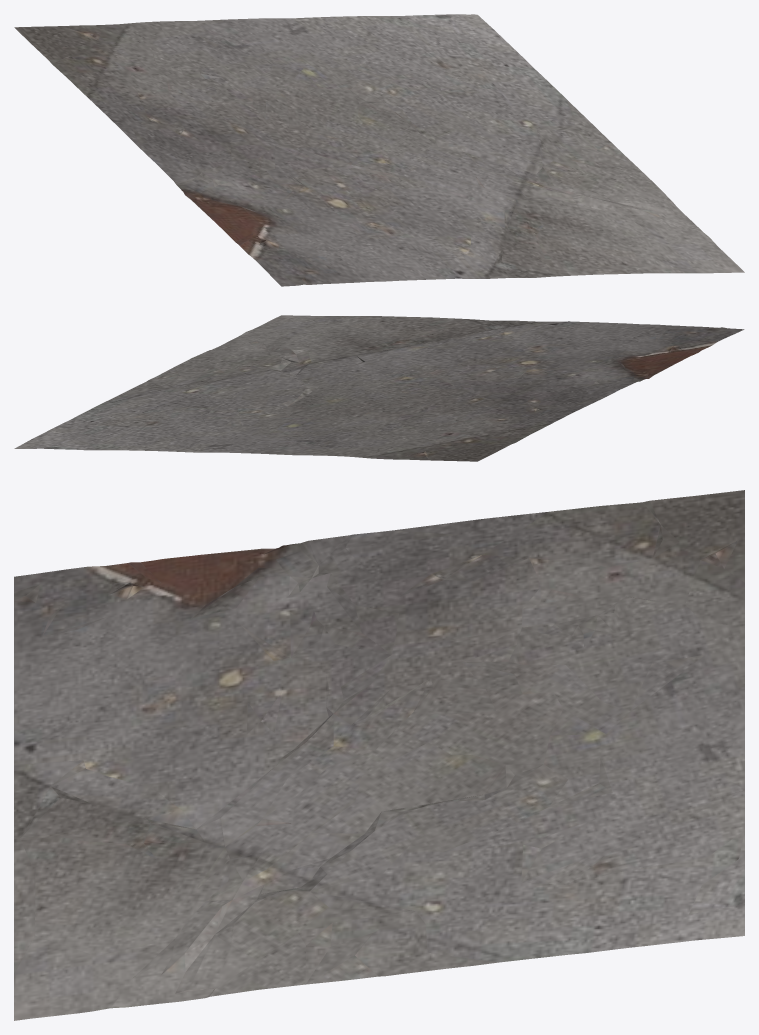
The picture shows the model from 3 angles, top to bottom: view 1: azimuth 30°, elevation 25°; view 2: azimuth 150°, elevation 25°; view 3: azimuth 270°, elevation 25°; orthographic projection. The views are drawn at different scales.
Bounding box in the file's own units: 3.35 × 1.12 × 3.35.
Materials: 3 (3 with a texture image).
